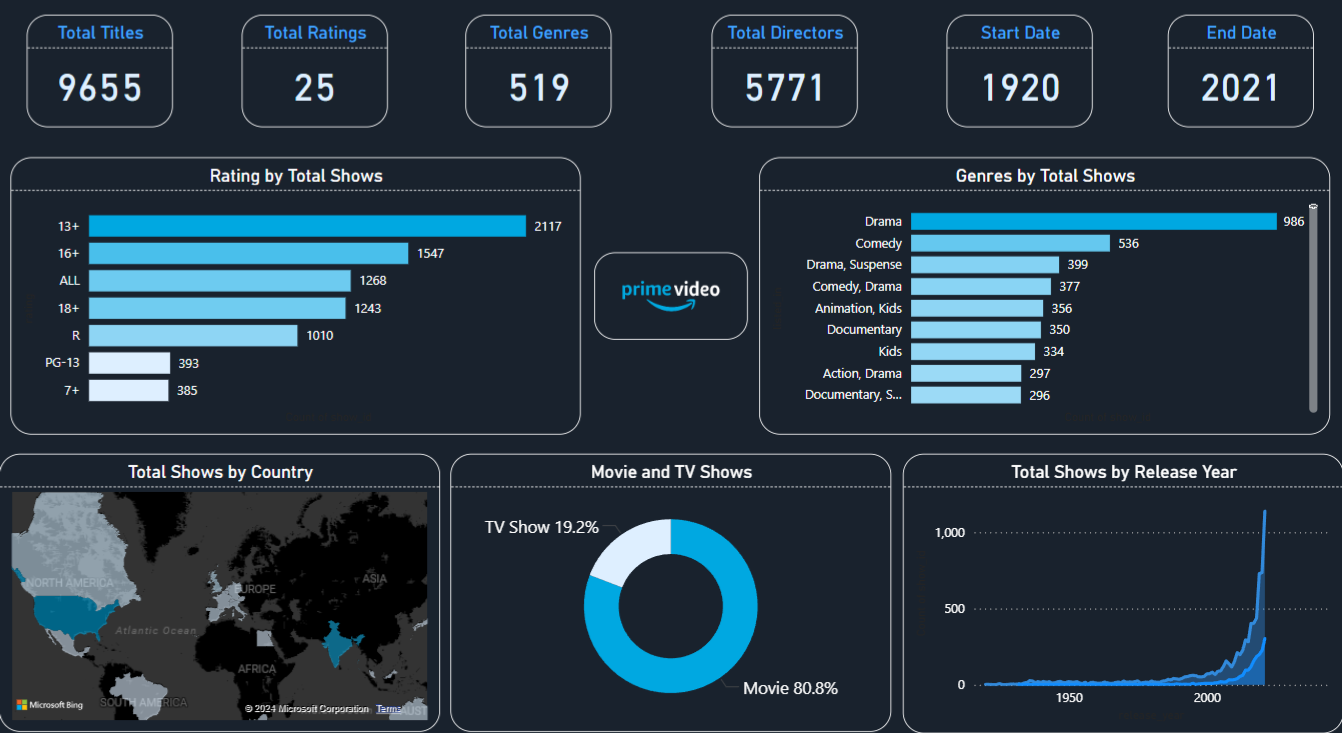

The page's visual inventory and layout, read from the dashboard file:
{"tool":"powerbi","page":{"name":"Page 1","canvas":[1280,720],"ordinal":0},"visuals":[{"type":"filledMap","title":"Total Shows by Country","fields":{"Category":["amazon_prime_titles.country"]},"box":[0,441.9,419.9,264.8],"z":0},{"type":"donutChart","title":"Movie and TV Shows","fields":{"Category":["amazon_prime_titles.type"],"Y":["CountNonNull(amazon_prime_titles.show_id)"]},"box":[429.5,441.9,419.9,264.8],"z":1},{"type":"areaChart","title":"Total Shows by Release Year","fields":{"Category":["amazon_prime_titles.release_year"],"Y":["Count(amazon_prime_titles.show_id)"],"Series":["amazon_prime_titles.type"]},"box":[860.4,441.9,419.9,266.2],"z":2},{"type":"image","box":[566.7,250,146.4,83.3],"z":3},{"type":"barChart","title":"Rating by Total Shows","fields":{"Category":["amazon_prime_titles.rating"],"Y":["Count(amazon_prime_titles.show_id)"]},"box":[10.7,159.5,542.9,264.3],"z":4},{"type":"barChart","title":"Genres by Total Shows","fields":{"Y":["Count(amazon_prime_titles.show_id)"],"Category":["amazon_prime_titles.listed_in"]},"box":[723.8,159.5,544.1,264.3],"z":5},{"type":"card","title":"Total Titles","fields":{"Values":["Count(amazon_prime_titles.title)"]},"box":[26.2,23.8,139.3,107.1],"z":6},{"type":"card","title":"Total Ratings","fields":{"Values":["Count(amazon_prime_titles.rating)"]},"box":[231,23.8,139.3,107.1],"z":7},{"type":"card","title":"Total Genres","fields":{"Values":["Count(amazon_prime_titles.listed_in)"]},"box":[444,23.8,139.3,107.1],"z":8},{"type":"card","title":"Total Directors","fields":{"Values":["Count(amazon_prime_titles.director)"]},"box":[678.6,23.8,139.3,107.1],"z":9},{"type":"card","title":"Start Date","fields":{"Values":["Min(amazon_prime_titles.release_year)"]},"box":[902.4,23.8,139.3,107.1],"z":10},{"type":"card","title":"End Date","fields":{"Values":["Max(amazon_prime_titles.release_year)"]},"box":[1113.1,23.8,139.3,107.1],"z":11}]}

Visuals, with their boxes in screenshot pixels (x1, y1, x2, y2), scaled from the page's 1280x720 canvas onto the 1342x733 screenshot:
"Total Shows by Country" filledMap: detection(0, 450, 440, 719)
"Movie and TV Shows" donutChart: detection(450, 450, 891, 719)
"Total Shows by Release Year" areaChart: detection(902, 450, 1341, 721)
image: detection(594, 255, 748, 339)
"Rating by Total Shows" barChart: detection(11, 162, 580, 431)
"Genres by Total Shows" barChart: detection(759, 162, 1329, 431)
"Total Titles" card: detection(27, 24, 174, 133)
"Total Ratings" card: detection(242, 24, 388, 133)
"Total Genres" card: detection(466, 24, 612, 133)
"Total Directors" card: detection(711, 24, 858, 133)
"Start Date" card: detection(946, 24, 1092, 133)
"End Date" card: detection(1167, 24, 1313, 133)
